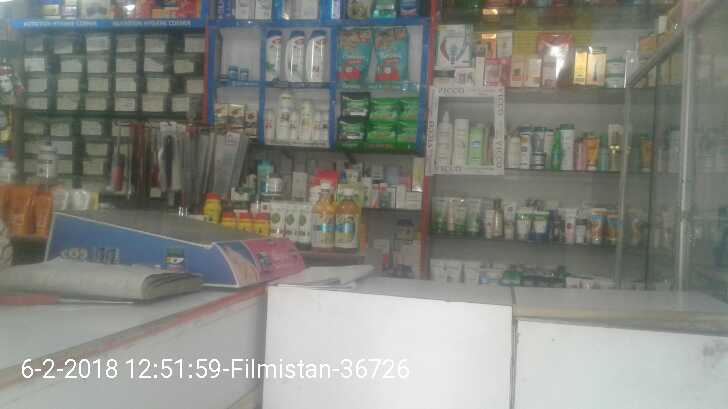vicks: (229, 63, 249, 82)
